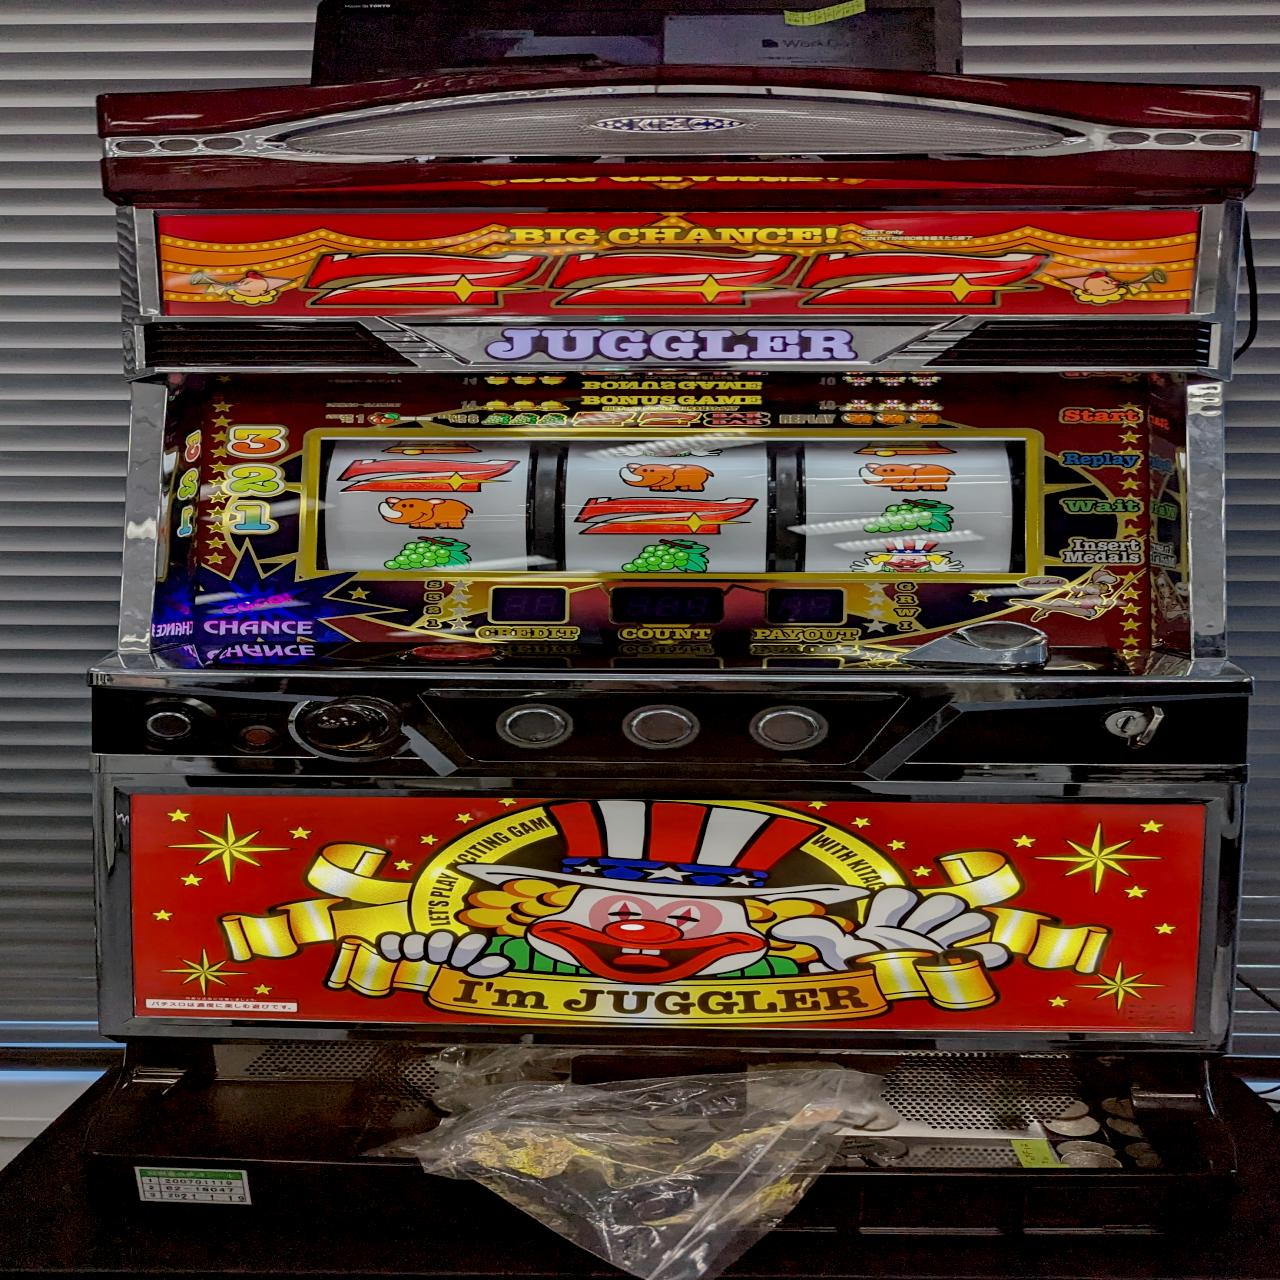7: (573, 496, 754, 536), (339, 457, 522, 495)
8: (375, 496, 474, 530), (856, 461, 960, 492), (617, 463, 715, 492)
Display: (312, 430, 1037, 578)
clown: (850, 538, 964, 576)
grape: (380, 536, 478, 571), (860, 498, 954, 535), (617, 539, 712, 574)
